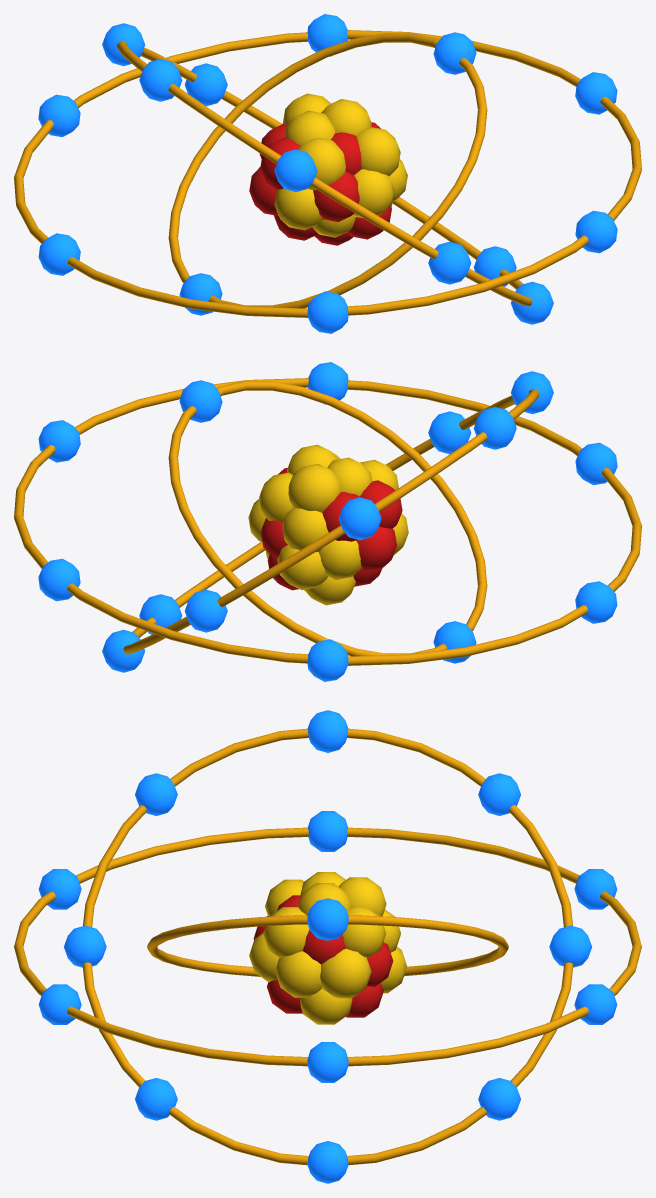
File: Atom_S.fbx
3 renders of one model, top to bottom at view 1: azimuth 30°, elevation 25°; view 2: azimuth 150°, elevation 25°; view 3: azimuth 270°, elevation 25°, orthographic.
Parts seen in each view (by area): view 1: S_Orbit_3, S_Inti_Atom, S_Orbit_2, S_Orbit_1; view 2: S_Orbit_3, S_Inti_Atom, S_Orbit_2, S_Orbit_1; view 3: S_Orbit_2, S_Orbit_3, S_Inti_Atom, S_Orbit_1.
Part boxes in pixels (left/top/right/bottom): S_Orbit_3: left=14, top=14, right=641, bottom=333; S_Inti_Atom: left=249, top=93, right=407, bottom=245; S_Orbit_2: left=102, top=23, right=553, bottom=324; S_Orbit_1: left=168, top=32, right=487, bottom=315; S_Orbit_3: left=14, top=362, right=641, bottom=681; S_Inti_Atom: left=248, top=444, right=408, bottom=605; S_Orbit_2: left=102, top=371, right=553, bottom=672; S_Orbit_1: left=168, top=380, right=487, bottom=663; S_Orbit_2: left=64, top=710, right=591, bottom=1183; S_Orbit_3: left=14, top=811, right=641, bottom=1082; S_Inti_Atom: left=249, top=872, right=406, bottom=1024; S_Orbit_1: left=147, top=898, right=508, bottom=976.
Size of the model in its own units: 1.68 by 0.8585 by 1.6.
